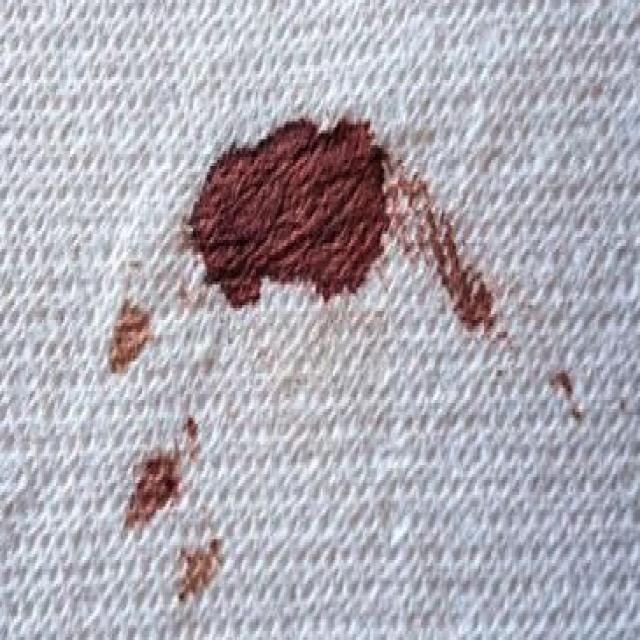blood: (188, 119, 391, 299)
